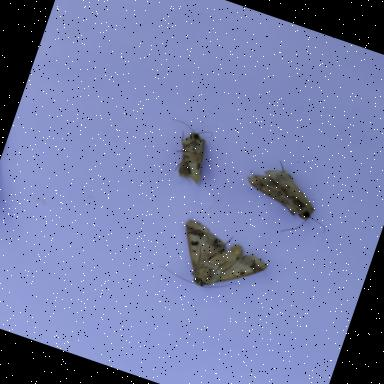abw: (154, 213, 276, 308), (232, 151, 344, 248), (150, 115, 220, 189)
